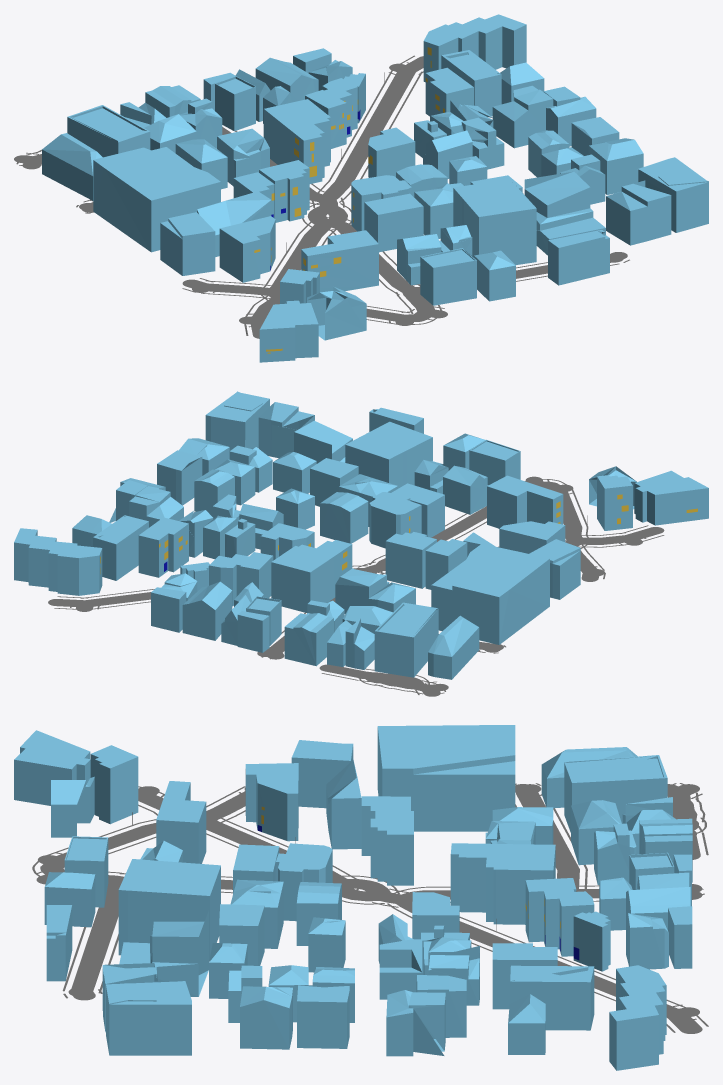
File: results_route5_lod3.obj
The picture shows the model from 3 angles, top to bottom: view 1: azimuth 30°, elevation 25°; view 2: azimuth 150°, elevation 25°; view 3: azimuth 270°, elevation 25°; orthographic projection. The views are drawn at different scales.
Bounding box in the file's own units: 126 × 12.76 × 123.
